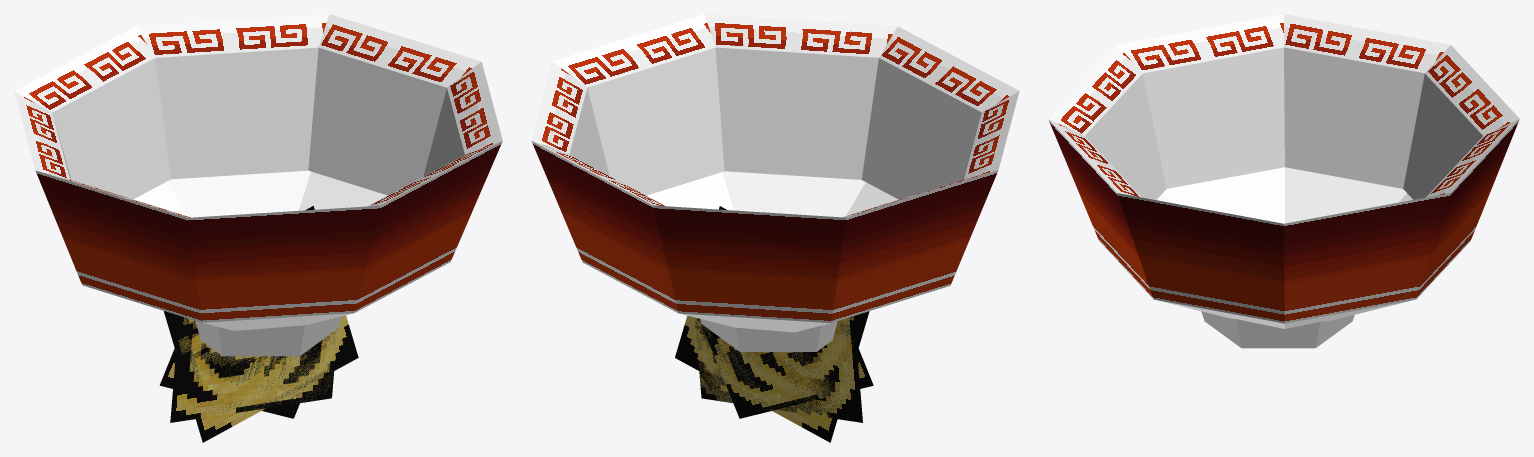
3 views of the same model, side by side, from view 1: azimuth 30°, elevation 25°; view 2: azimuth 150°, elevation 25°; view 3: azimuth 270°, elevation 25° (orthographic). The views are drawn at different scales.
Visible parts, largest first — view 1: 1377item2767r; view 2: 1377item2767r; view 3: 1377item2767r.
Boxes of the visible parts, bbox=[...] form: 1377item2767r: bbox=[14, 14, 502, 442]; 1377item2767r: bbox=[531, 14, 1019, 442]; 1377item2767r: bbox=[1048, 14, 1519, 348].
Size of the model in its own units: 0.5391 by 0.3621 by 0.5125.
2 materials, 2 textured.
